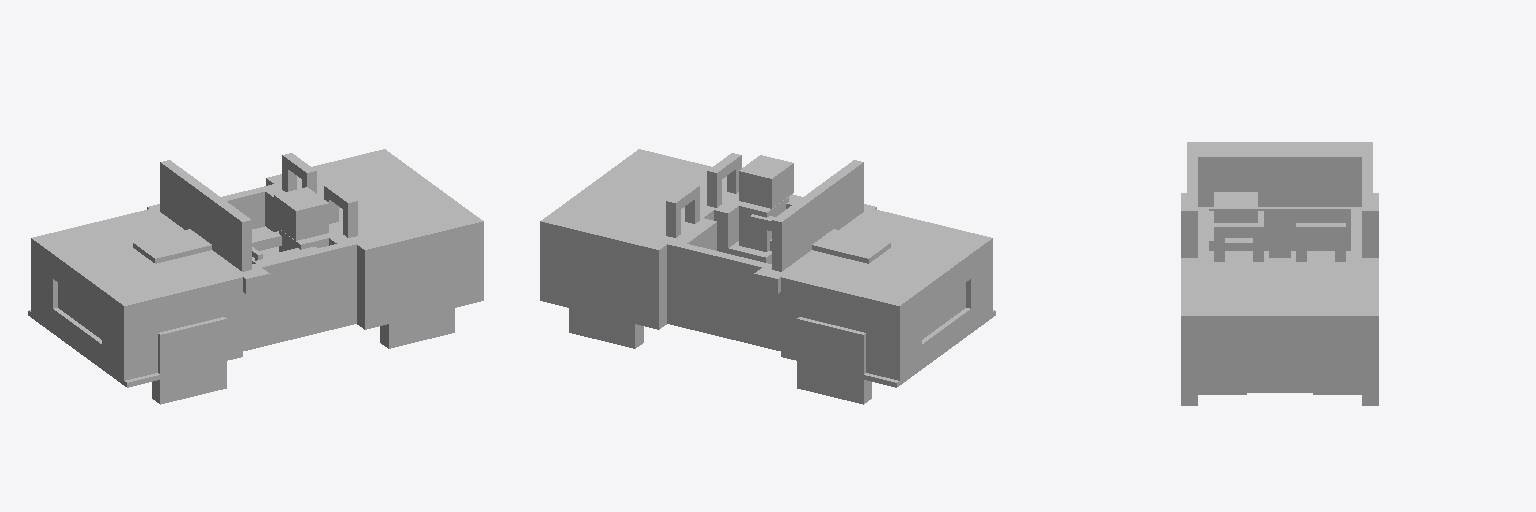
Rendered from alll cars3-56.obj.
The picture shows the model from 3 angles: view 1: azimuth 30°, elevation 25°; view 2: azimuth 150°, elevation 25°; view 3: azimuth 270°, elevation 25°; orthographic projection.
Visible parts, largest first — view 1: object 1; view 2: object 1; view 3: object 1.
Boxes of the visible parts, <box> form: object 1: <box>28,149,483,404</box>; object 1: <box>540,149,995,404</box>; object 1: <box>1181,142,1378,405</box>.
Size of the model in its own units: 7.5 by 3.1 by 3.6.